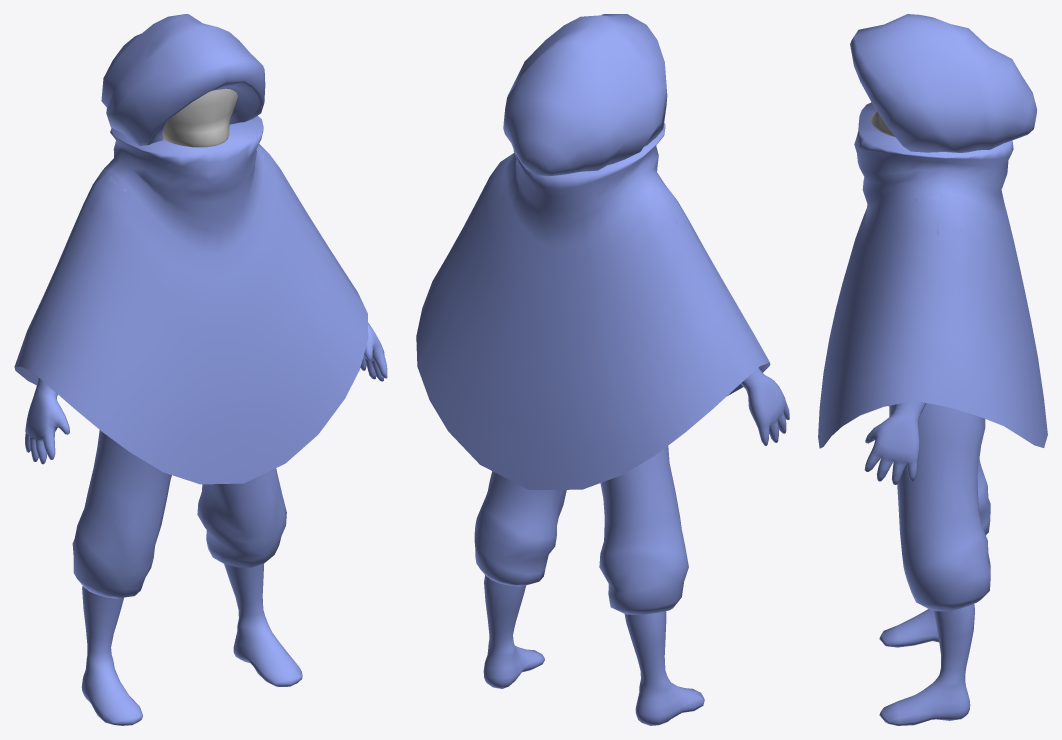
File: PlayerLowFix.fbx
3 views of the same model, side by side, from view 1: azimuth 30°, elevation 25°; view 2: azimuth 150°, elevation 25°; view 3: azimuth 270°, elevation 25° (orthographic).
Visible parts, largest first — view 1: Poncho_low.001, Pants_low.001, Hood_low.001, Body_low.001, Head; view 2: Poncho_low.001, Hood_low.001, Pants_low.001, Body_low.001; view 3: Poncho_low.001, Hood_low.001, Pants_low.001, Body_low.001.
Boxes of the visible parts, box(x1,y1,x2,y2) form: Poncho_low.001: box(14, 116, 368, 484); Pants_low.001: box(72, 430, 286, 598); Hood_low.001: box(101, 14, 265, 145); Body_low.001: box(25, 145, 387, 725); Head: box(162, 88, 237, 147); Poncho_low.001: box(416, 123, 770, 489); Hood_low.001: box(503, 14, 667, 176); Pants_low.001: box(474, 446, 688, 614); Body_low.001: box(483, 163, 789, 725); Poncho_low.001: box(818, 102, 1047, 448); Hood_low.001: box(850, 14, 1037, 152); Pants_low.001: box(888, 403, 990, 611); Body_low.001: box(864, 194, 974, 725).
Bounding box in the file's own units: 2.16 × 3.99 × 1.26.
